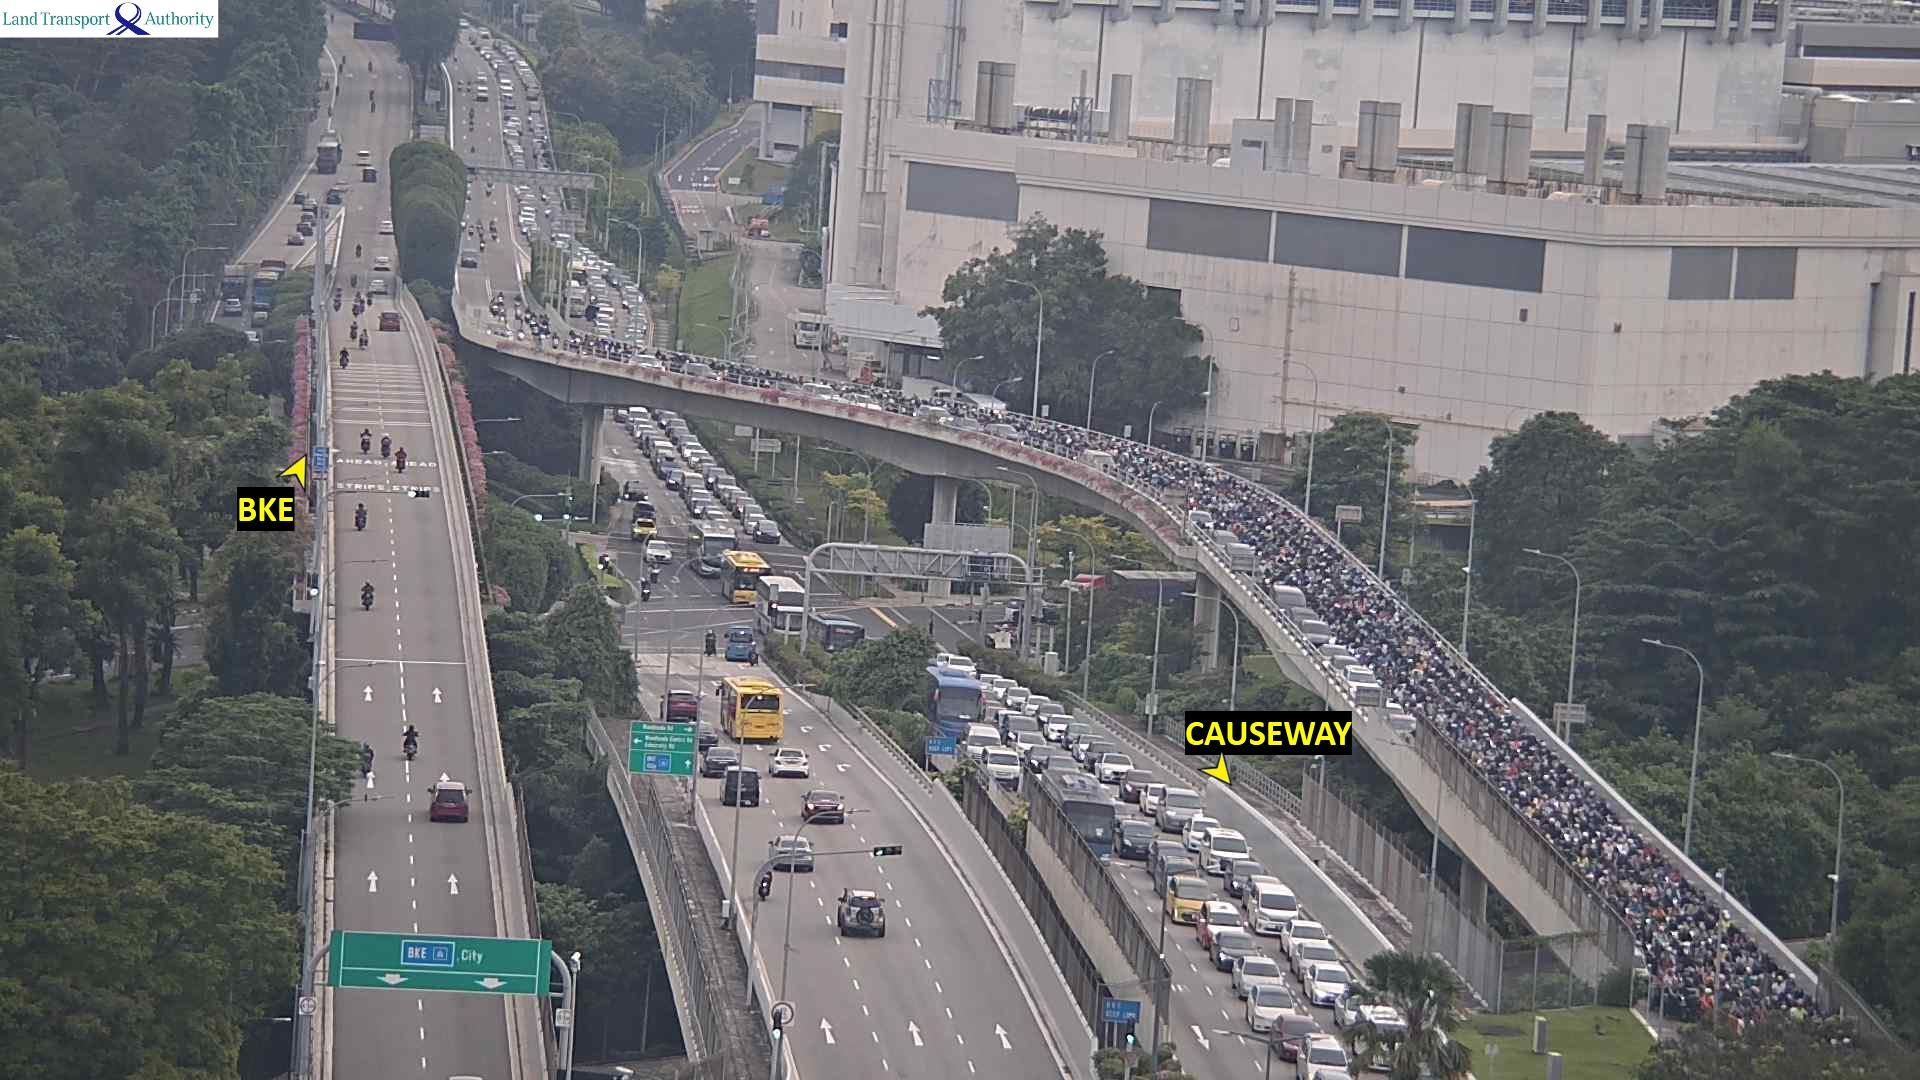vehicle-causeway-johor: (1301, 540, 1400, 648), (1379, 632, 1463, 718), (1235, 490, 1313, 573), (1045, 770, 1113, 849), (1159, 453, 1233, 512), (926, 669, 983, 739), (1356, 1010, 1406, 1068), (758, 577, 805, 635), (1239, 993, 1307, 1032), (689, 519, 734, 574), (724, 553, 771, 605), (1028, 416, 1083, 457), (1168, 884, 1224, 923), (1205, 828, 1250, 873), (1247, 897, 1303, 932), (1297, 1038, 1347, 1077), (1110, 823, 1167, 857), (1306, 964, 1354, 1004), (1266, 1018, 1334, 1046), (810, 614, 864, 649), (1151, 802, 1210, 833), (1230, 958, 1292, 985), (1214, 931, 1261, 965), (985, 748, 1019, 791), (1120, 442, 1158, 480), (1335, 993, 1391, 1018), (1281, 921, 1326, 952), (1295, 942, 1335, 975), (963, 724, 1000, 758), (1119, 770, 1161, 799), (1226, 862, 1266, 891), (1003, 714, 1038, 743), (1097, 753, 1137, 778), (1140, 782, 1170, 813), (1271, 586, 1305, 610), (1012, 732, 1045, 756), (945, 655, 976, 680), (1086, 450, 1116, 473), (800, 383, 840, 400), (1047, 716, 1074, 739), (1348, 668, 1379, 688), (841, 393, 879, 409), (1581, 824, 1602, 852), (1003, 688, 1030, 709), (737, 499, 759, 524), (742, 505, 768, 526), (670, 461, 691, 487), (686, 447, 715, 465), (627, 409, 650, 431), (1306, 621, 1330, 642), (1205, 533, 1238, 548), (992, 680, 1018, 699), (1038, 705, 1064, 724), (683, 368, 720, 381), (986, 424, 1018, 439), (1318, 646, 1348, 662), (755, 522, 777, 543), (1666, 971, 1687, 993), (662, 459, 686, 478), (922, 406, 947, 424), (1330, 657, 1358, 673), (669, 425, 695, 442), (708, 468, 729, 489), (675, 431, 696, 452), (1229, 547, 1253, 565), (747, 514, 766, 536), (1513, 741, 1532, 763), (1024, 696, 1048, 713), (706, 505, 730, 522), (718, 478, 738, 498), (619, 284, 641, 302), (728, 490, 747, 510), (682, 440, 703, 458), (462, 248, 479, 270), (597, 306, 618, 323), (723, 486, 742, 504), (594, 289, 612, 308), (1189, 511, 1209, 528), (1685, 944, 1704, 961), (654, 441, 670, 461), (1465, 687, 1481, 707), (693, 454, 714, 469), (593, 321, 615, 335), (633, 419, 650, 437), (1290, 608, 1315, 620), (656, 448, 672, 466), (683, 476, 701, 492), (586, 273, 601, 292), (700, 500, 716, 517), (700, 460, 715, 478), (647, 434, 662, 452), (1662, 893, 1678, 909), (690, 495, 707, 510), (642, 430, 657, 446), (1667, 927, 1681, 944), (1553, 793, 1565, 812), (622, 296, 641, 308), (1618, 841, 1632, 857), (627, 318, 648, 327), (489, 219, 498, 239), (630, 305, 645, 317), (467, 225, 476, 243), (549, 334, 557, 352), (568, 331, 580, 343), (488, 297, 495, 313), (587, 337, 597, 348), (604, 341, 613, 353), (690, 489, 699, 499), (531, 318, 538, 329), (499, 292, 505, 303)
vehicle-causeway-singapore: (715, 682, 785, 740), (834, 890, 892, 937), (705, 629, 769, 664), (800, 792, 853, 824), (720, 770, 764, 806), (771, 843, 818, 872), (762, 753, 810, 780), (657, 694, 705, 719), (776, 751, 822, 777), (428, 798, 468, 824), (702, 752, 744, 774), (873, 842, 913, 859), (406, 725, 425, 756), (430, 780, 469, 795), (397, 446, 409, 477), (359, 584, 372, 610), (383, 316, 404, 331), (361, 428, 372, 455), (356, 504, 366, 532), (370, 280, 387, 296), (383, 435, 392, 460), (341, 348, 348, 372), (360, 329, 368, 350), (375, 257, 389, 269), (350, 322, 358, 341), (334, 296, 341, 309), (355, 246, 361, 260), (360, 298, 365, 310), (352, 303, 356, 316), (352, 272, 356, 284)
